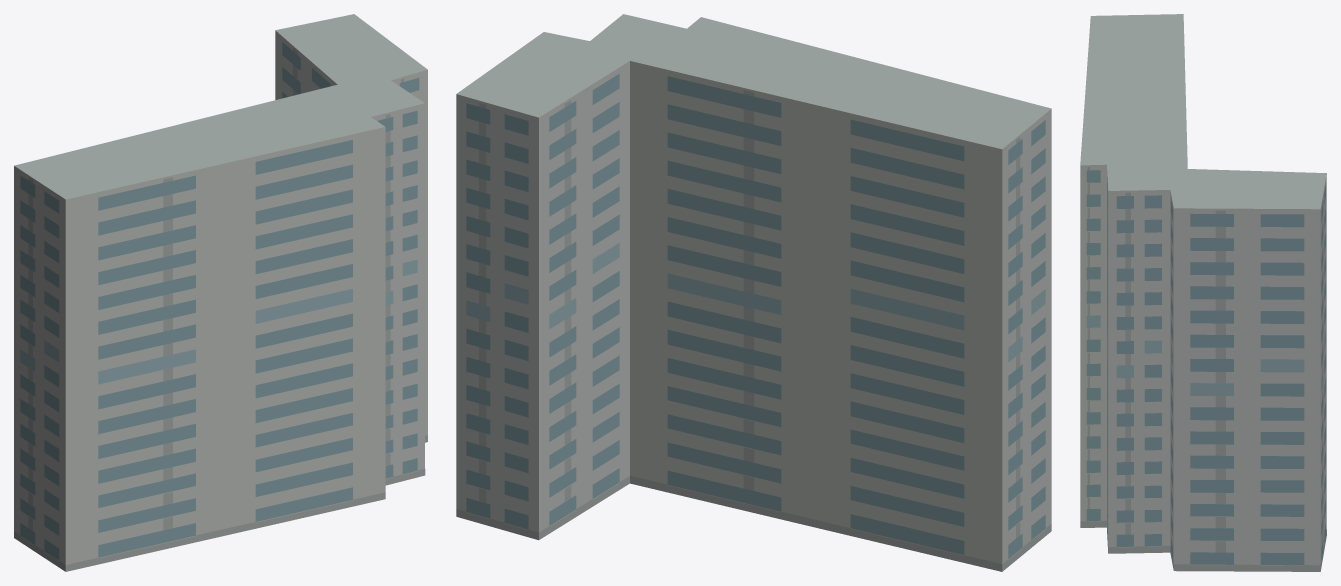
Rendered from residential-66c4d968-1122-46ee-b038-b79af5480401.glb.
3 views of the same model, side by side, from view 1: azimuth 30°, elevation 25°; view 2: azimuth 150°, elevation 25°; view 3: azimuth 270°, elevation 25° (orthographic). The views are drawn at different scales.
Parts seen in each view (by area): view 1: residential-66c4d968-1122-46ee-b038-b79af5480401.tmp; view 2: residential-66c4d968-1122-46ee-b038-b79af5480401.tmp; view 3: residential-66c4d968-1122-46ee-b038-b79af5480401.tmp.
Part boxes in pixels (<box>): residential-66c4d968-1122-46ee-b038-b79af5480401.tmp: <box>14,14,427,571</box>; residential-66c4d968-1122-46ee-b038-b79af5480401.tmp: <box>456,14,1051,571</box>; residential-66c4d968-1122-46ee-b038-b79af5480401.tmp: <box>1080,14,1326,571</box>.
Bounding box in the file's own units: 52.81 × 45.75 × 28.2.
